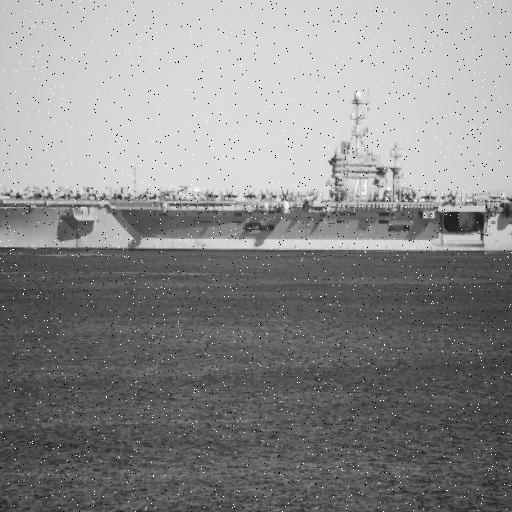Portanaves: (1, 83, 512, 258)
